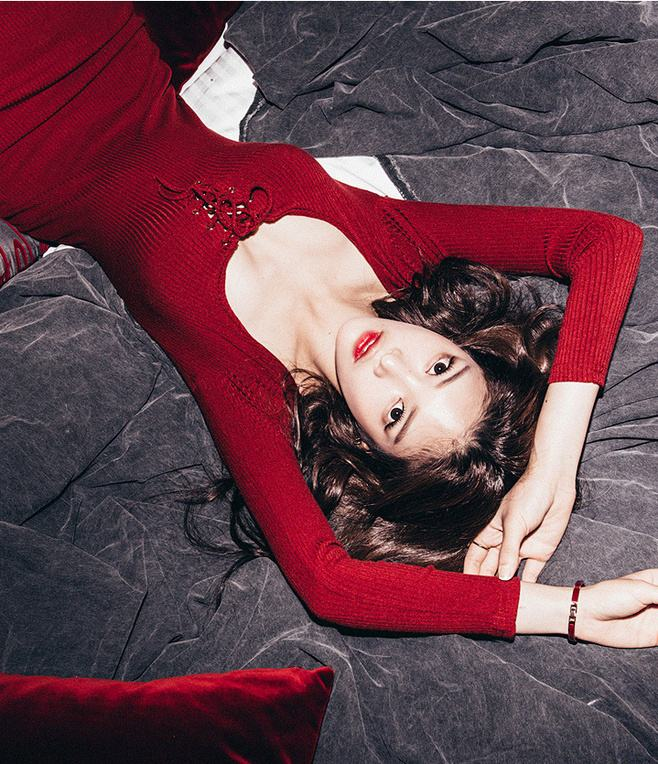person: (65, 57, 567, 664)
